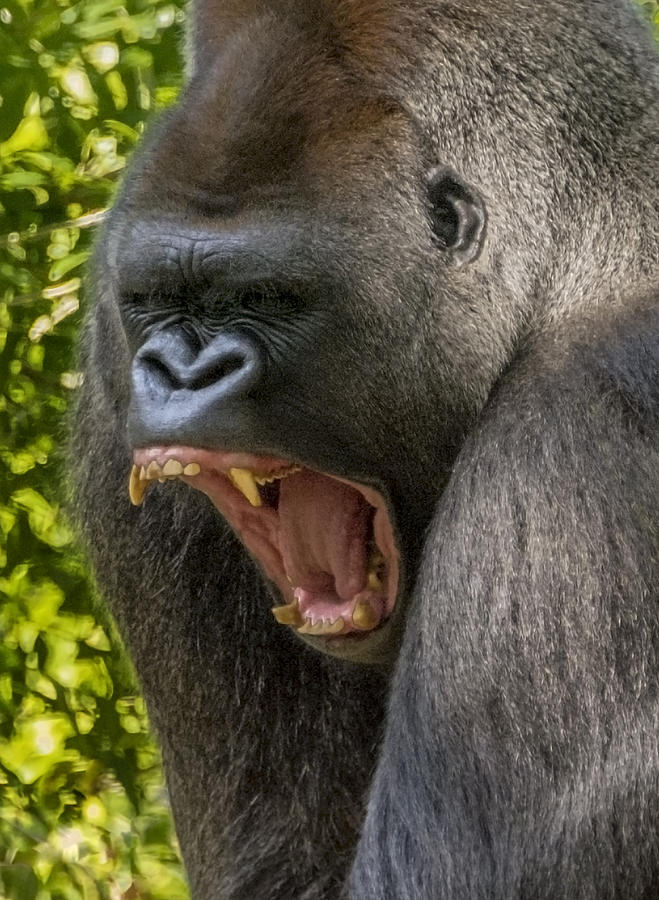Gorilla: (88, 8, 651, 860)
